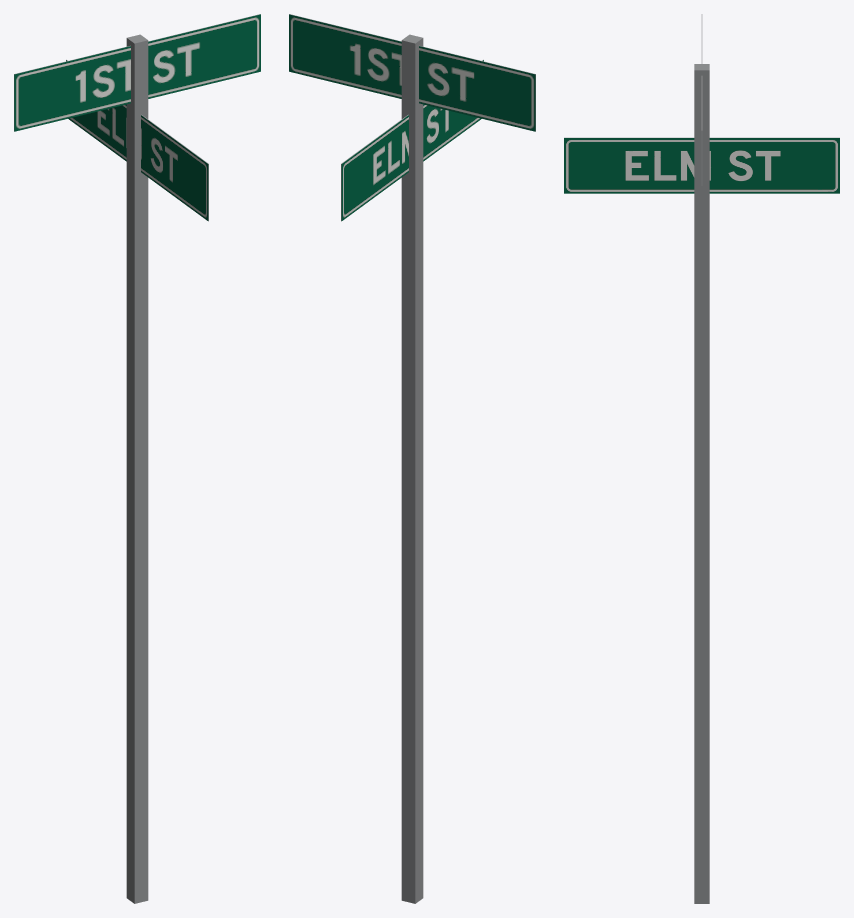
Rendered from sign_street_name_1st_st__elm_st.glb.
3 renders of one model, left to right at view 1: azimuth 30°, elevation 25°; view 2: azimuth 150°, elevation 25°; view 3: azimuth 270°, elevation 25°, orthographic. The views are drawn at different scales.
Parts seen in each view (by area): view 1: sign_street_name_1st_st__elm_st; view 2: sign_street_name_1st_st__elm_st; view 3: sign_street_name_1st_st__elm_st.
Part boxes in pixels (x1,y1,x2,y2): sign_street_name_1st_st__elm_st: (14, 14, 260, 903); sign_street_name_1st_st__elm_st: (289, 14, 535, 903); sign_street_name_1st_st__elm_st: (564, 14, 839, 903).
Bounding box in the file's own units: 0.9144 × 3.05 × 0.9144.
Materials: 4 (2 with a texture image).
